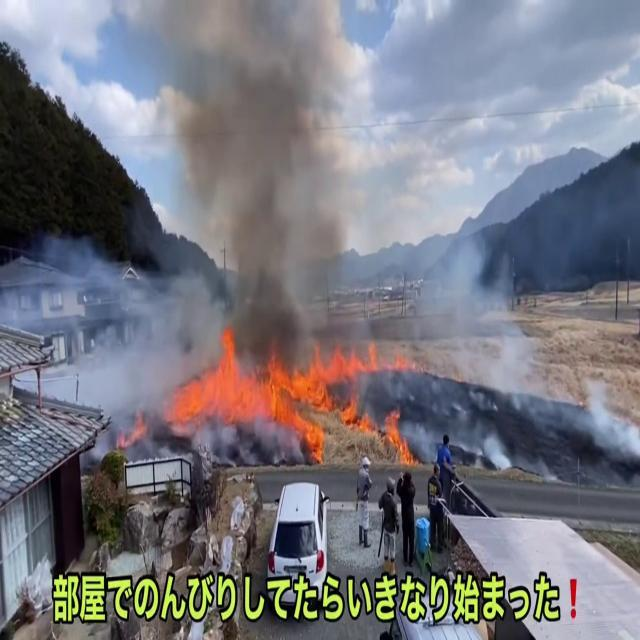Fire: (170, 334, 410, 450)
Smoke: (151, 2, 367, 352), (43, 224, 185, 436), (404, 212, 548, 406)
